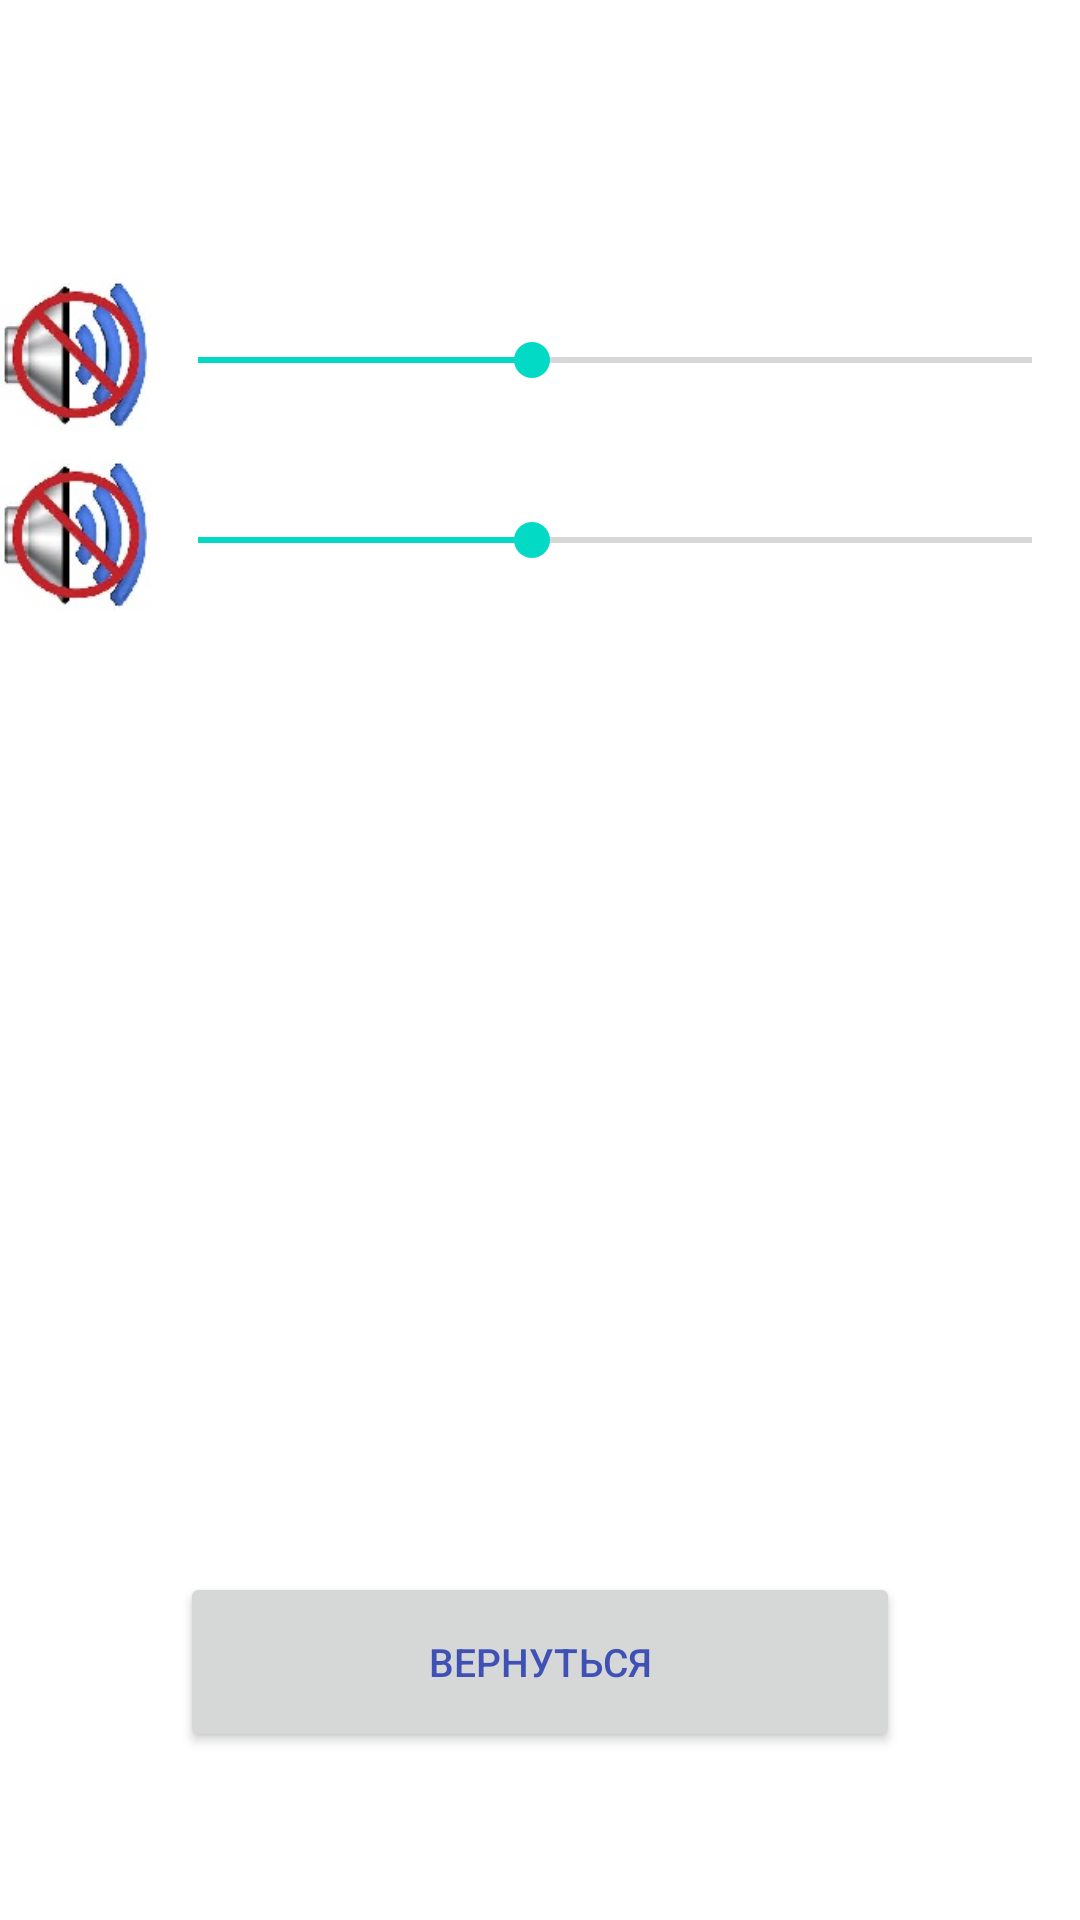

Icon bounding boxes for this 1080x1920 phone screenshot, format [left=x1, top=y1, right=x2, bottom=y2]:
sound: [left=4, top=283, right=147, bottom=427], [left=4, top=463, right=147, bottom=607]
